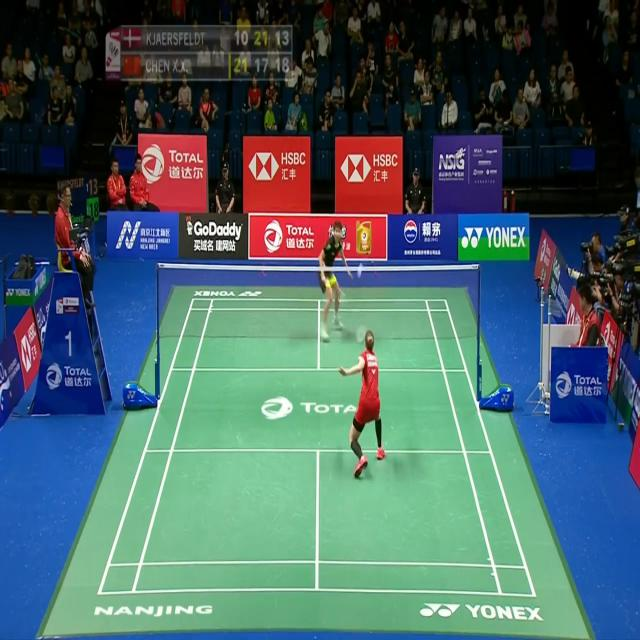Player1: (334, 321, 392, 485)
Player2: (313, 214, 367, 350)
